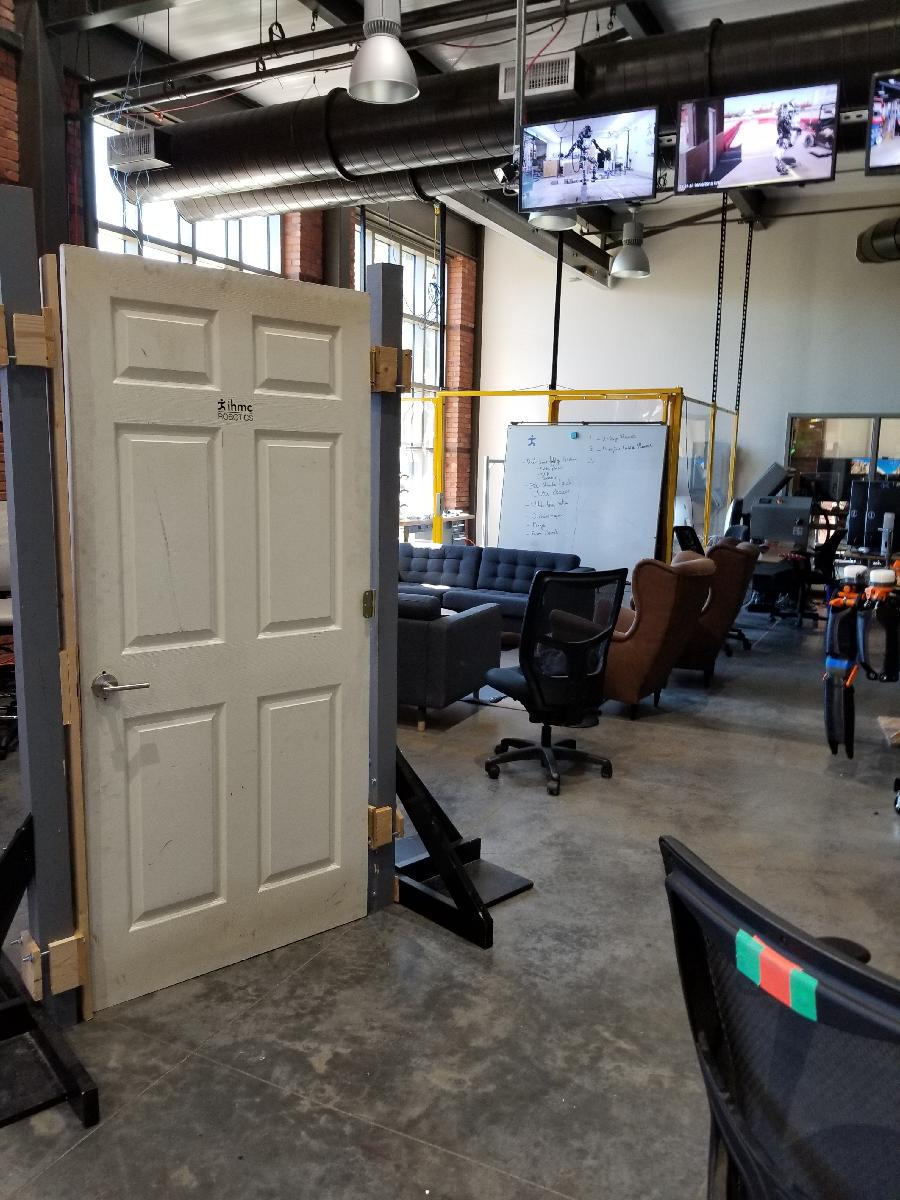door: (58, 238, 382, 1021)
doorHandle: (87, 670, 152, 709)
